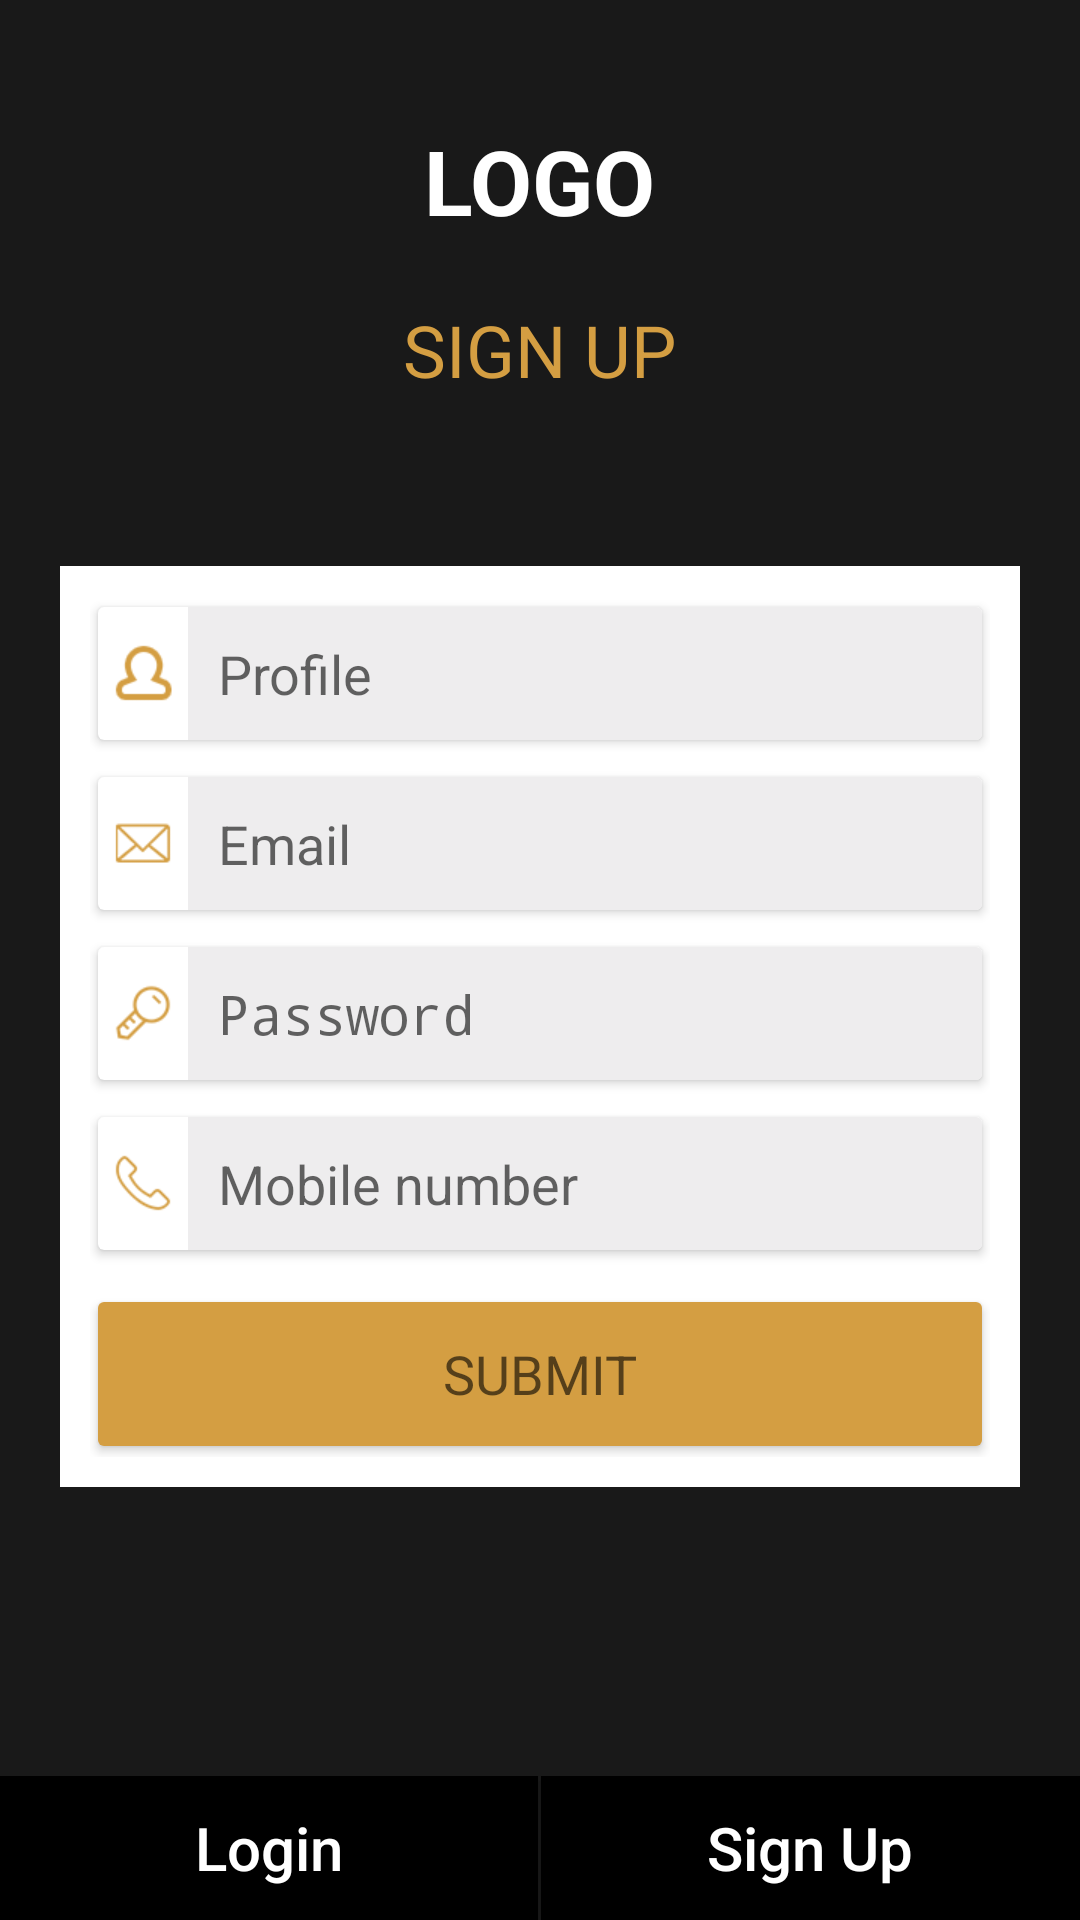

Point at icon controls on the screen. Image size 1080px×1920px, points as point (x, y).
phone: point (143, 1183)
